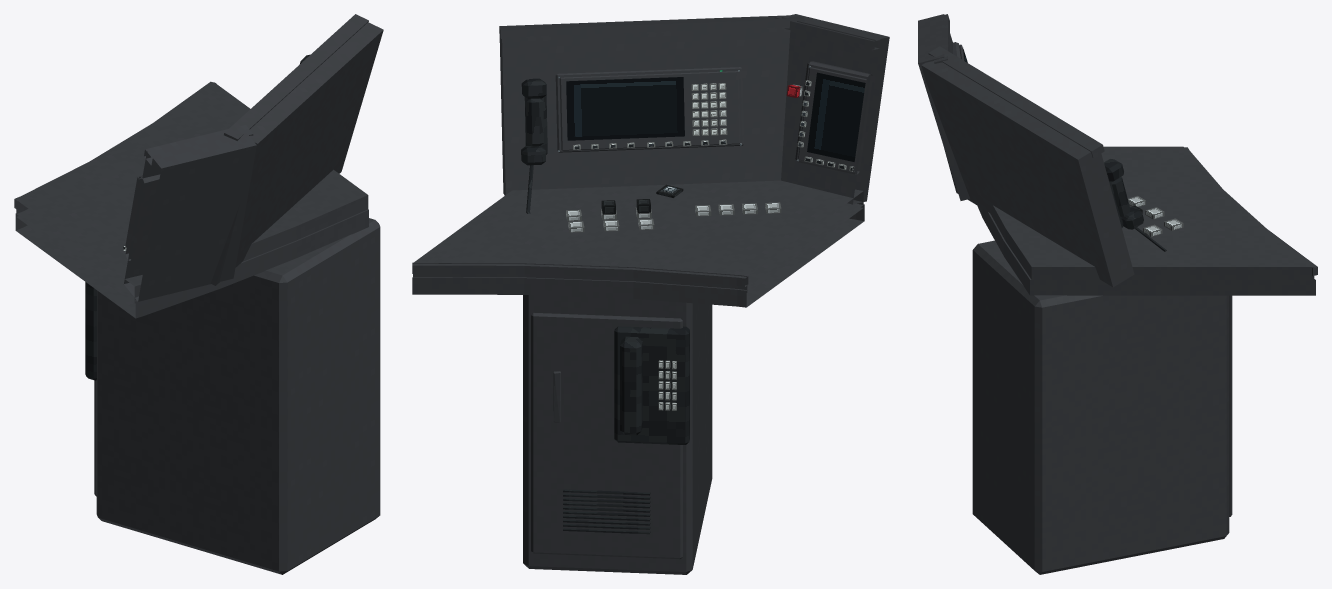
The model's file is cab_static_right.obj.
3 views of the same model, side by side, from view 1: azimuth 30°, elevation 25°; view 2: azimuth 150°, elevation 25°; view 3: azimuth 270°, elevation 25° (orthographic). The views are drawn at different scales.
Bounding box in the file's own units: 0.9323 × 1.37 × 1.14.
